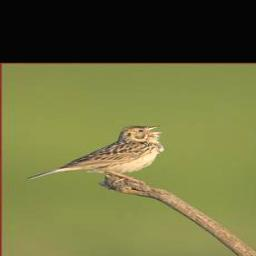Sparrow: (26, 125, 164, 185)
